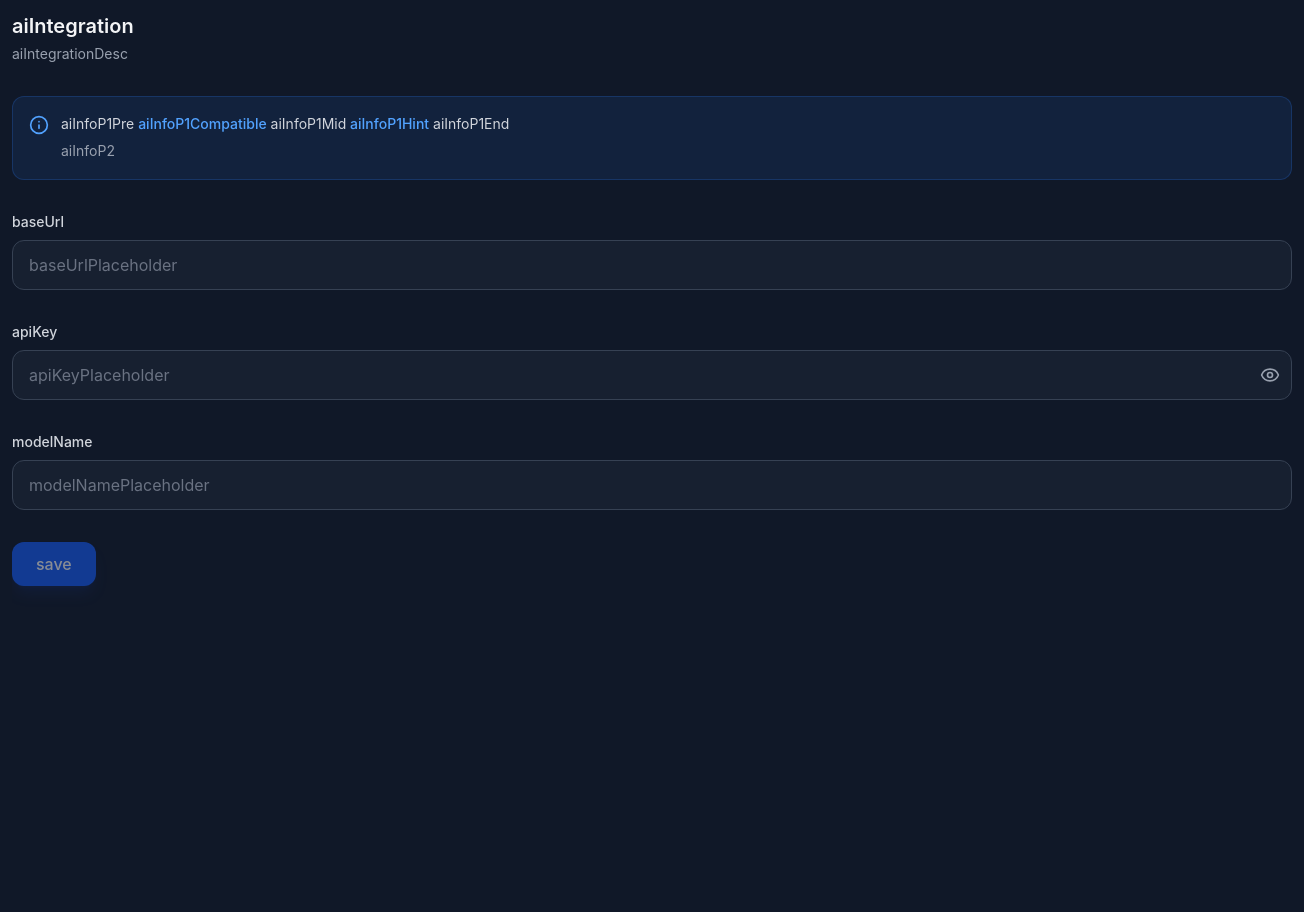
Test: AIIntegrationSettings — save flow › PUT failure shows the failedToSaveApiKey error
In the field labelled "baseUrl": (652, 264) [12, 240, 1292, 290], type "https://api.example.com"
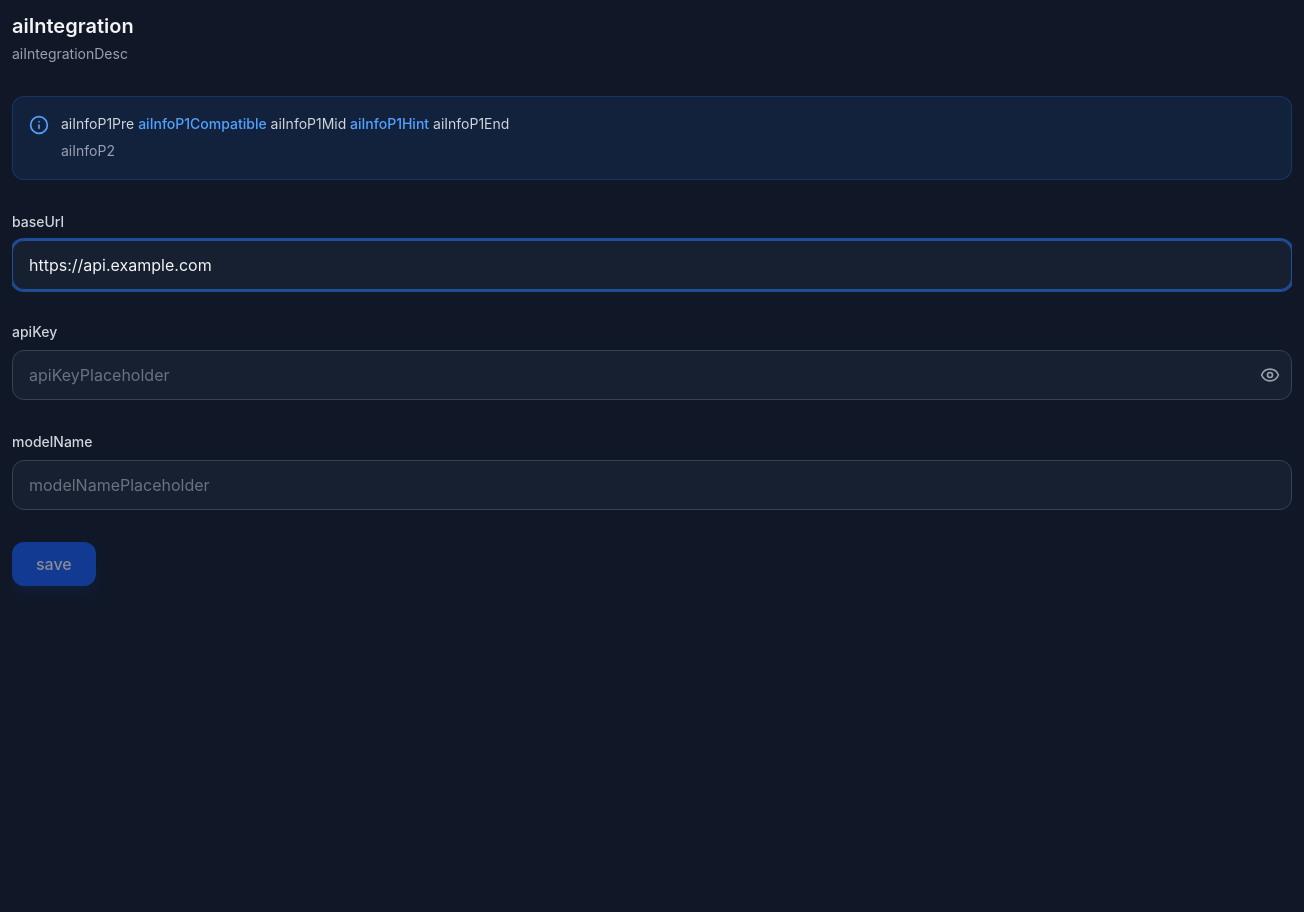
In the password field labelled "apiKey": (652, 374) [12, 350, 1292, 400], type "sk-ok"
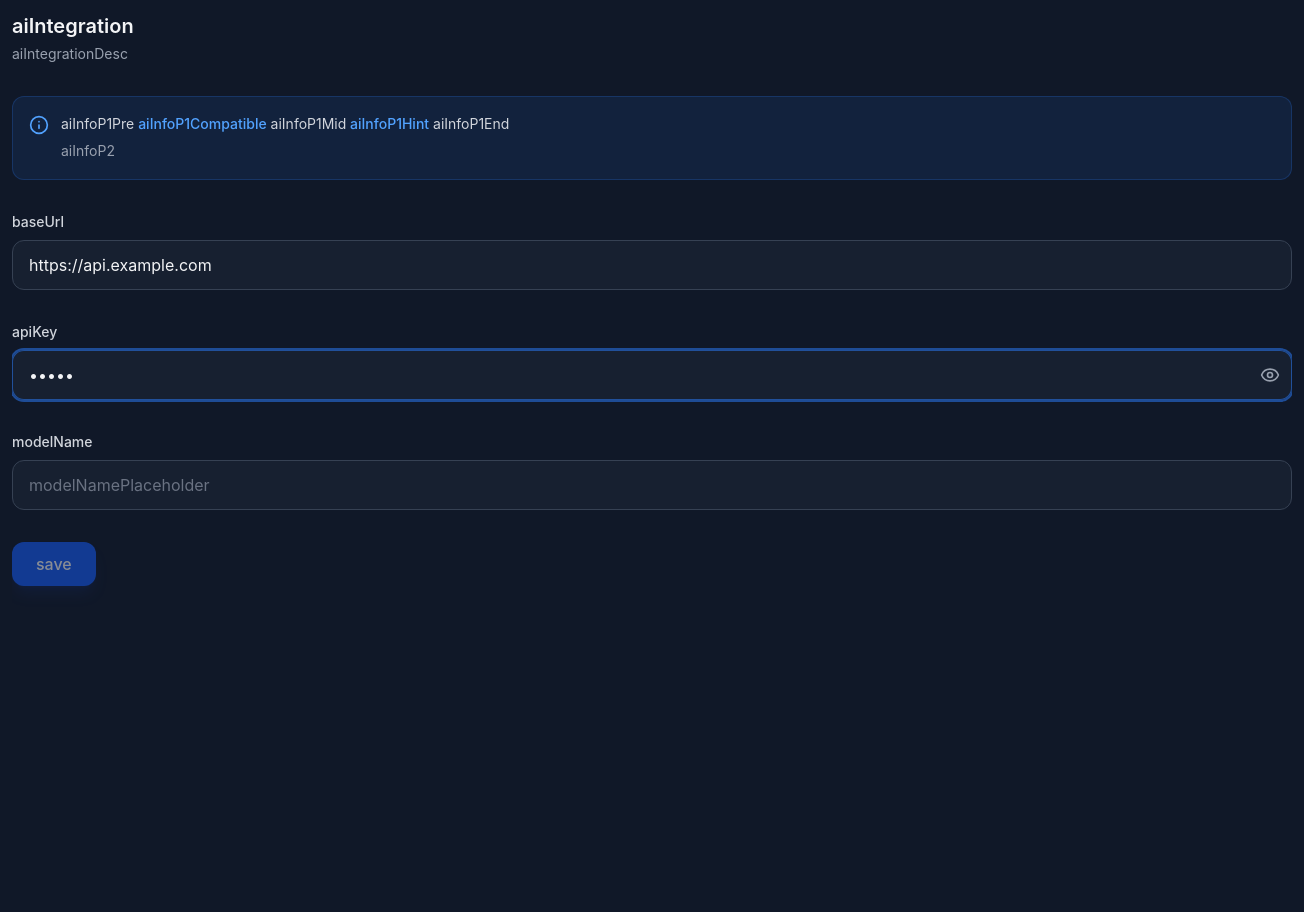
In the field labelled "modelName": (652, 484) [12, 460, 1292, 510], type "gpt-4"
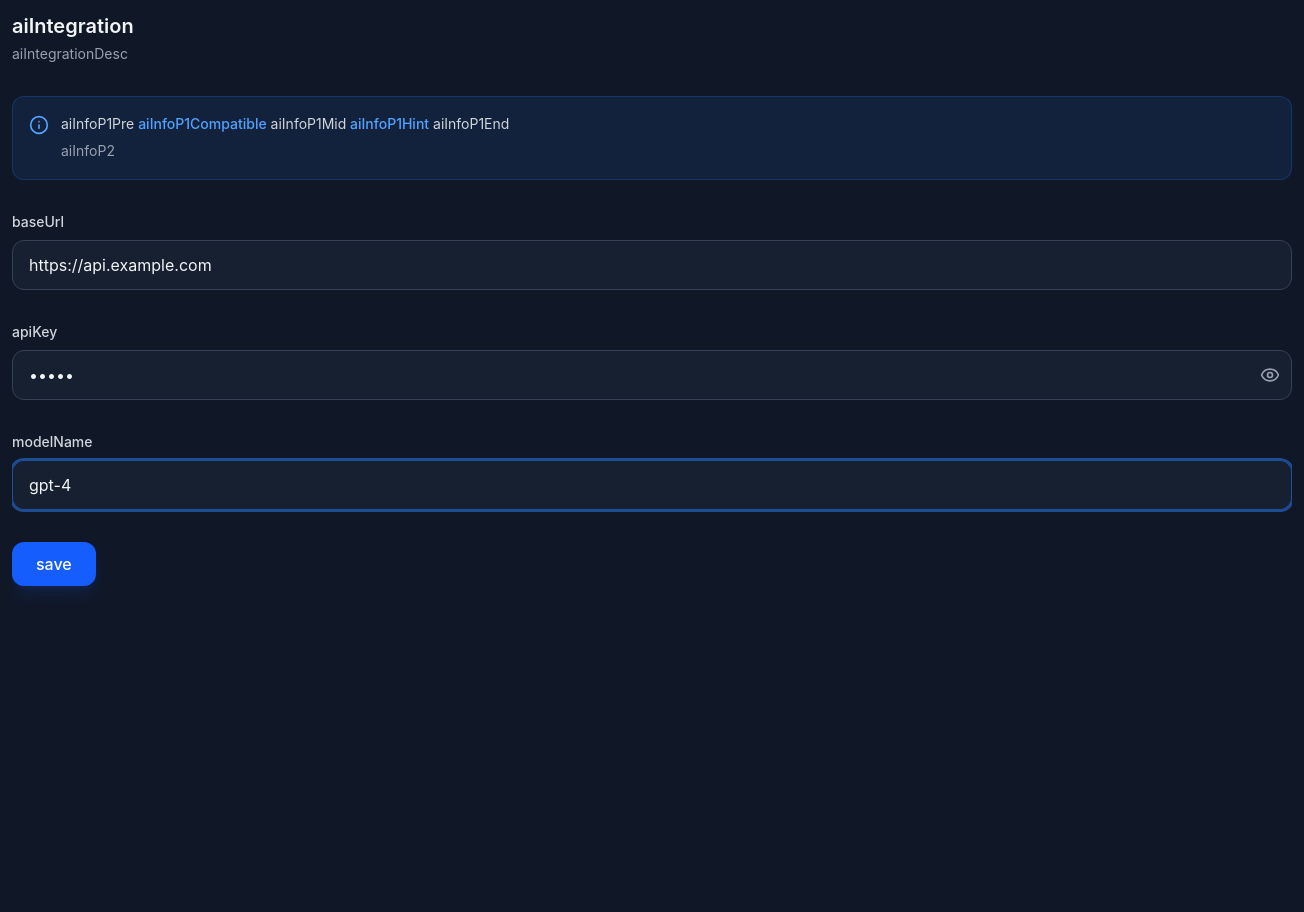
Click the button "save": (54, 564) [12, 542, 96, 586]
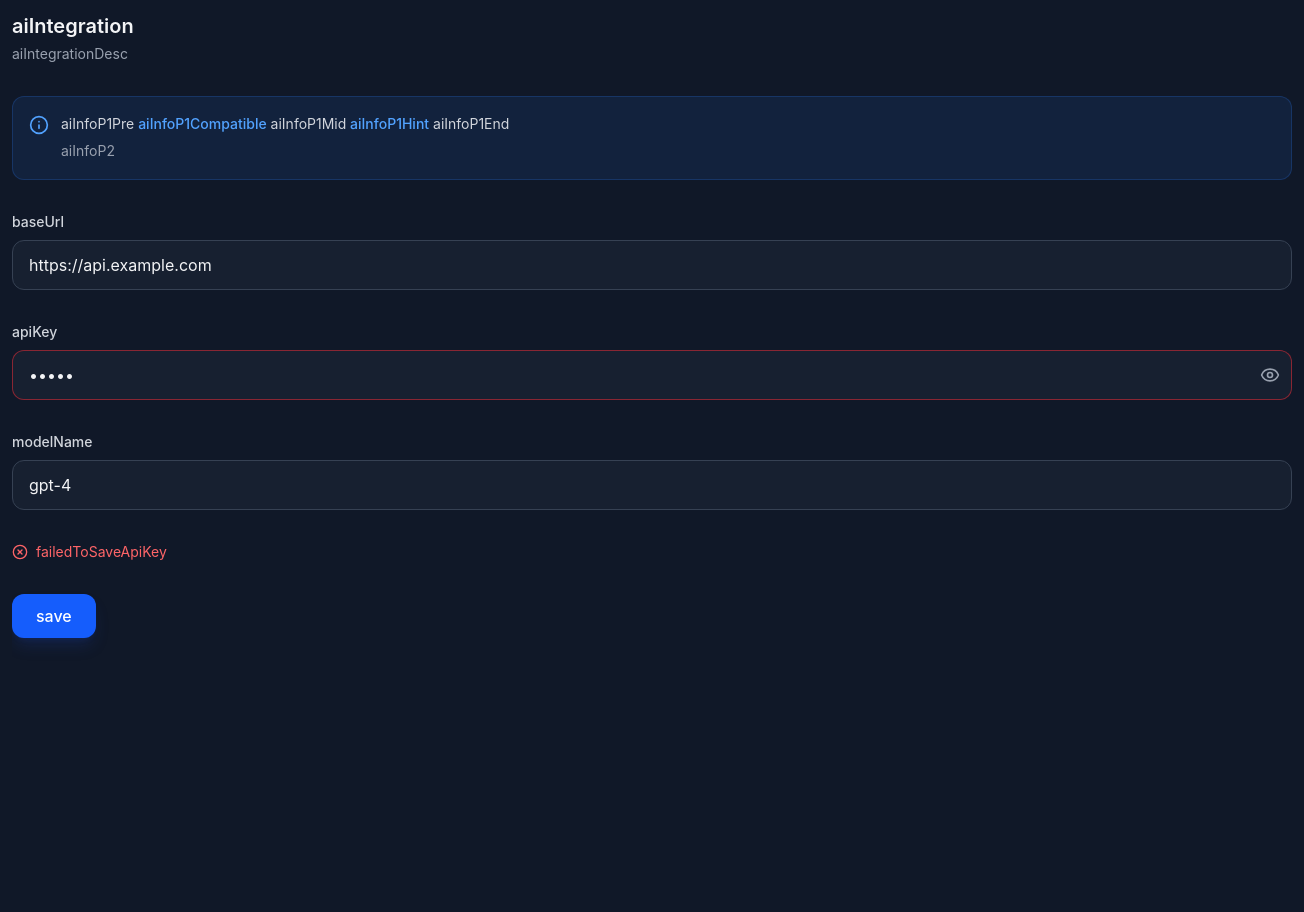
Check: the text "failedToSaveApiKey" is shown, box [36, 542, 167, 562]
